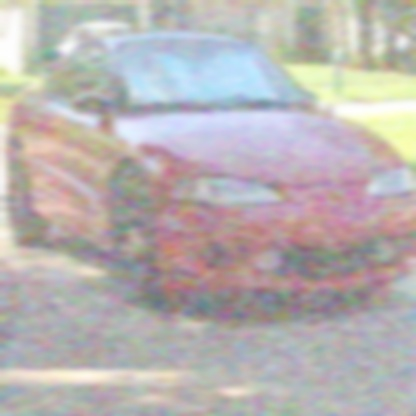Vehicle: (6, 27, 415, 297)
